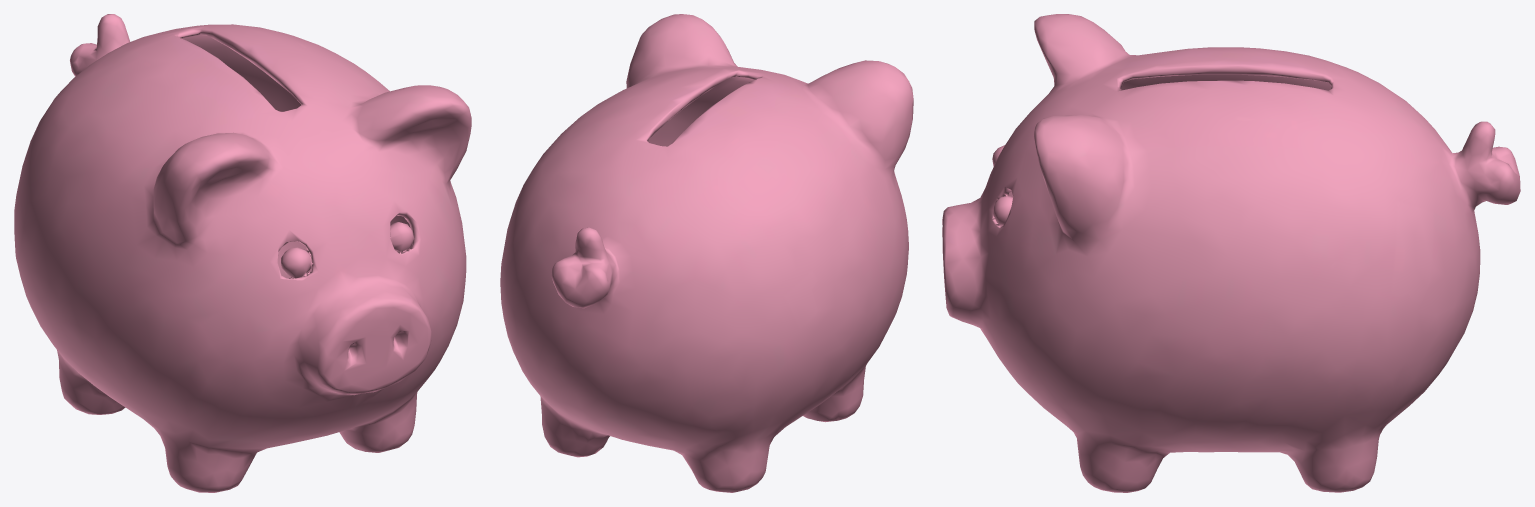
File: piggy.glb
3 renders of one model, left to right at view 1: azimuth 30°, elevation 25°; view 2: azimuth 150°, elevation 25°; view 3: azimuth 270°, elevation 25°, orthographic. The views are drawn at different scales.
Size of the model in its own units: 0.7333 by 0.7119 by 1.01.
Materials: 1 (1 with a texture image).
